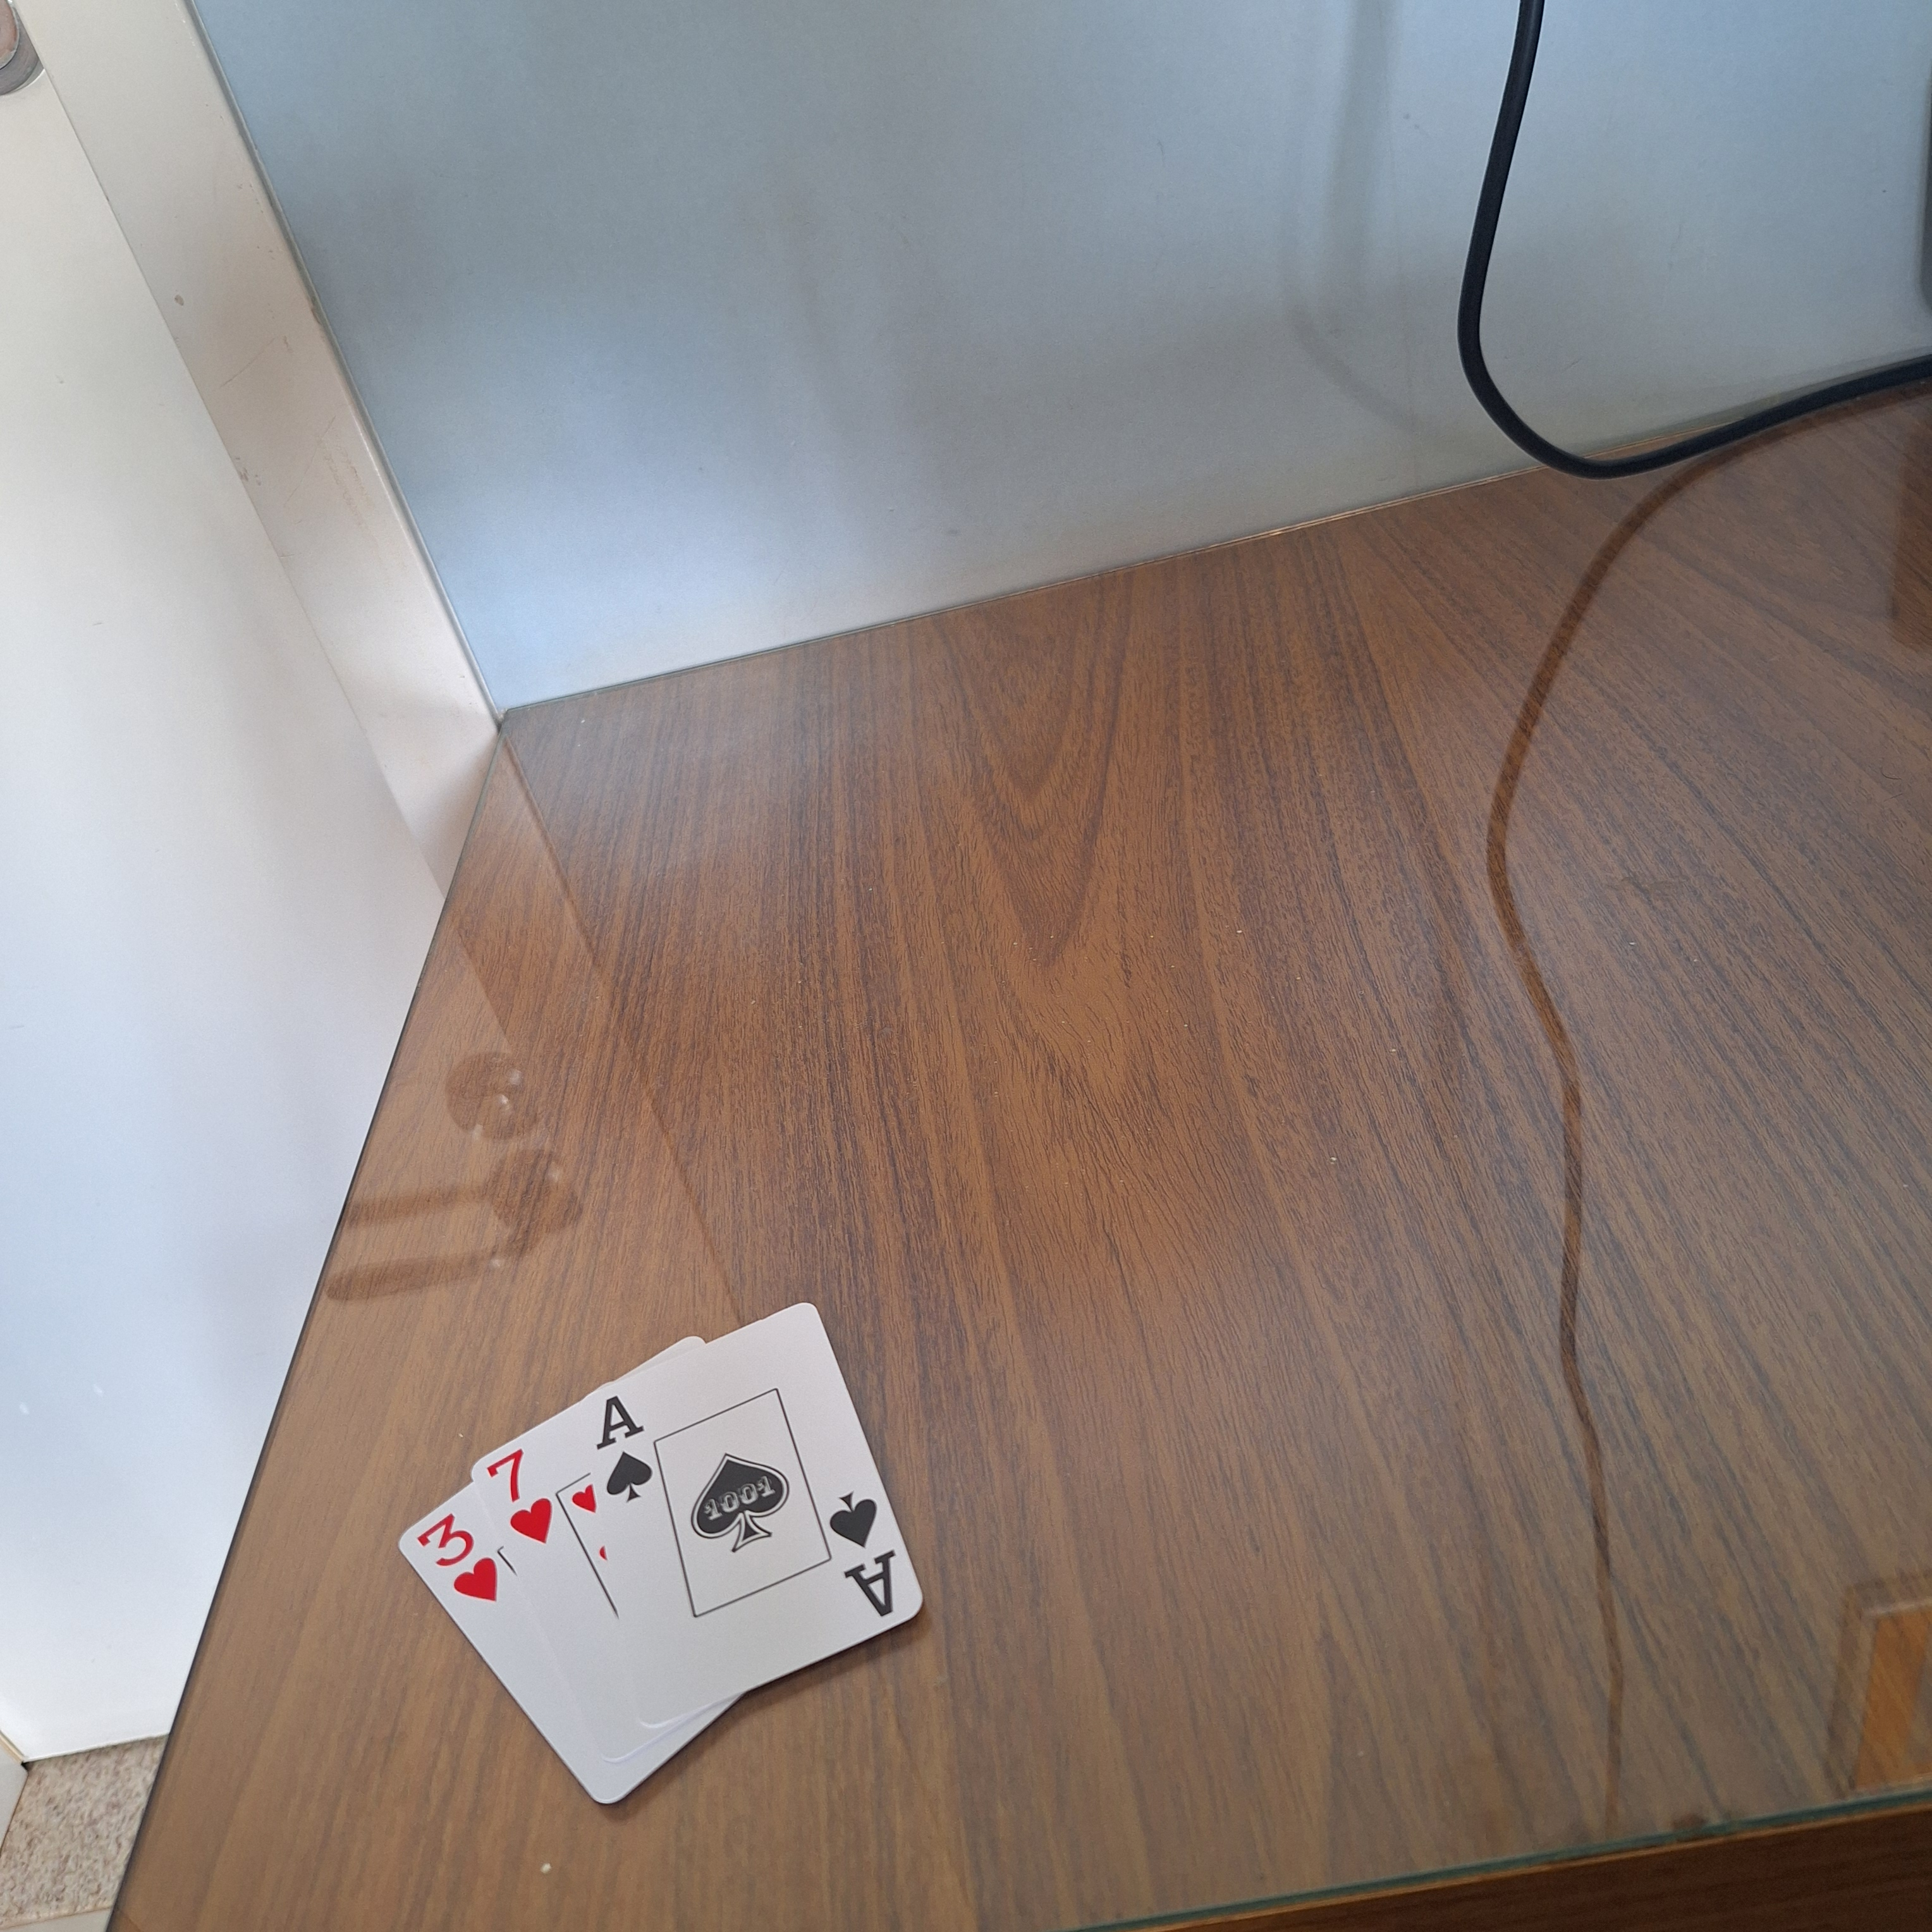3C: (402, 1507, 502, 1606)
7C: (481, 1447, 561, 1550)
AE: (819, 1483, 915, 1624), (587, 1387, 671, 1507)
